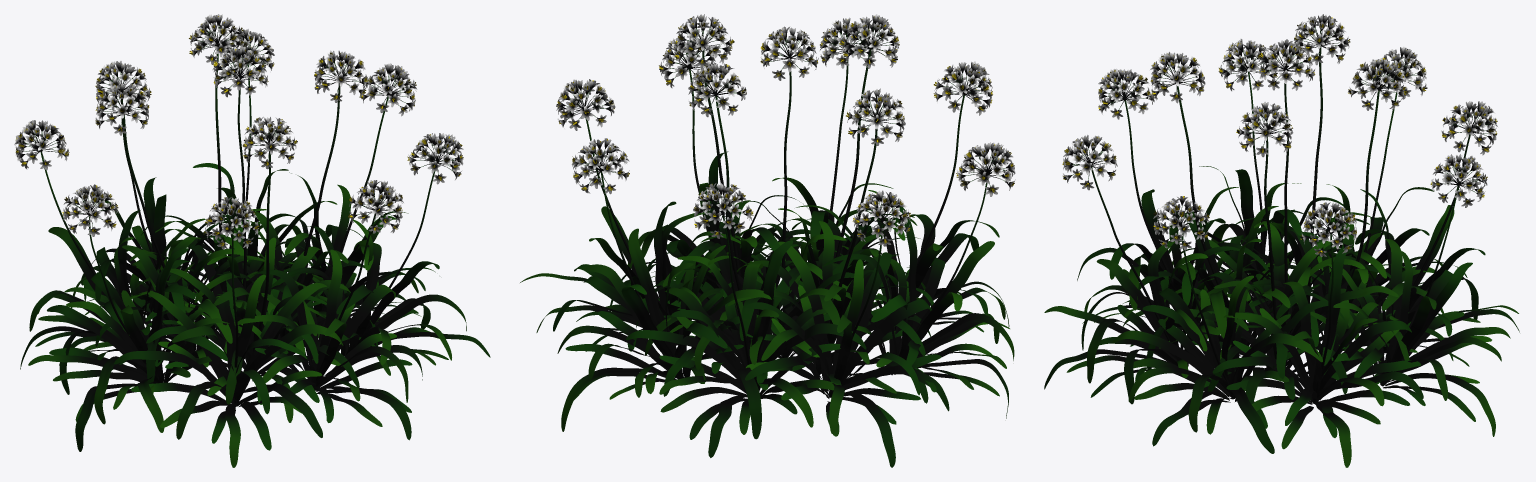
File: agapanthus.fbx
3 renders of one model, left to right at view 1: azimuth 30°, elevation 25°; view 2: azimuth 150°, elevation 25°; view 3: azimuth 270°, elevation 25°, orthographic. The views are drawn at different scales.
Parts seen in each view (by area): view 1: Agapanthus_a__A001; view 2: Agapanthus_a__A001; view 3: Agapanthus_a__A001.
Part boxes in pixels (x1,y1,x2,y2): Agapanthus_a__A001: (14, 14, 490, 467); Agapanthus_a__A001: (520, 14, 1015, 467); Agapanthus_a__A001: (1044, 14, 1519, 467).
Size of the model in its own units: 139 by 109 by 135.
